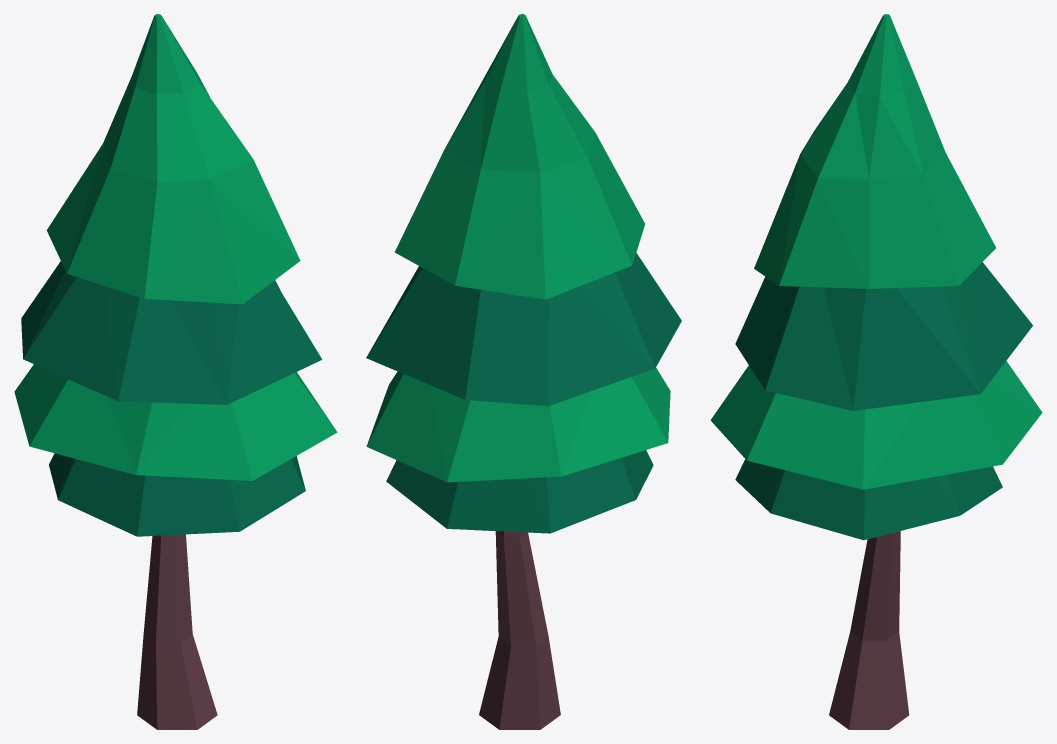
Rendered from PineTree.dae.
3 renders of one model, left to right at view 1: azimuth 30°, elevation 25°; view 2: azimuth 150°, elevation 25°; view 3: azimuth 270°, elevation 25°, orthographic. The views are drawn at different scales.
Parts seen in each view (by area): view 1: Leaves03, Leaves02, Leaves01, Leaves00, Bark; view 2: Leaves03, Leaves02, Leaves01, Leaves00, Bark; view 3: Leaves03, Leaves02, Leaves01, Leaves00, Bark.
Boxes of the visible parts, x1,y1,x2,y2 form: Leaves03: [46, 14, 300, 304]; Leaves02: [21, 261, 322, 404]; Leaves01: [14, 364, 337, 480]; Leaves00: [49, 453, 305, 536]; Bark: [137, 534, 217, 729]; Leaves03: [394, 14, 644, 299]; Leaves02: [366, 253, 681, 406]; Leaves01: [366, 367, 670, 482]; Leaves00: [386, 450, 653, 533]; Bark: [479, 531, 560, 729]; Leaves03: [754, 14, 995, 288]; Leaves02: [735, 262, 1032, 410]; Leaves01: [710, 361, 1042, 489]; Leaves00: [735, 459, 1002, 540]; Bark: [829, 531, 909, 729].
Size of the model in its own units: 0.8184 by 0.8471 by 1.95.
